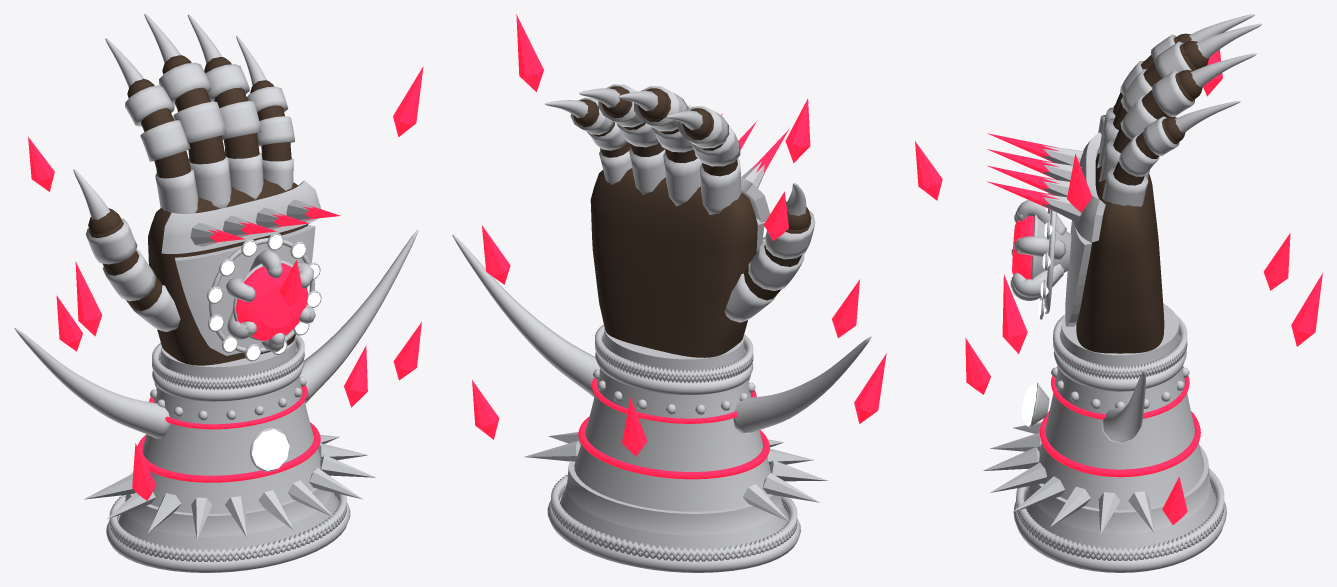
Rendered from gloves_power_mythic.glb.
The picture shows the model from 3 angles, left to right: view 1: azimuth 30°, elevation 25°; view 2: azimuth 150°, elevation 25°; view 3: azimuth 270°, elevation 25°; orthographic projection. The views are drawn at different scales.
Parts seen in each view (by area): view 1: gloves_power_mythic; view 2: gloves_power_mythic; view 3: gloves_power_mythic.
Part boxes in pixels (<box>): gloves_power_mythic: <box>14,14,423,572</box>; gloves_power_mythic: <box>452,14,886,572</box>; gloves_power_mythic: <box>915,14,1322,572</box>.
Bounding box in the file's own units: 2.64 × 2.94 × 2.22.
